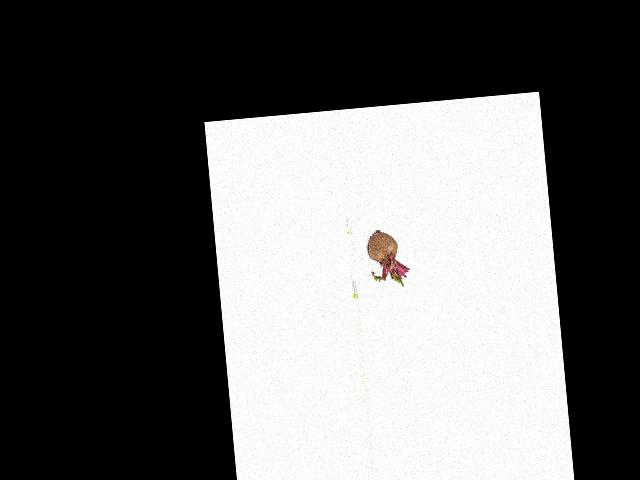beet: (366, 227, 410, 288)
